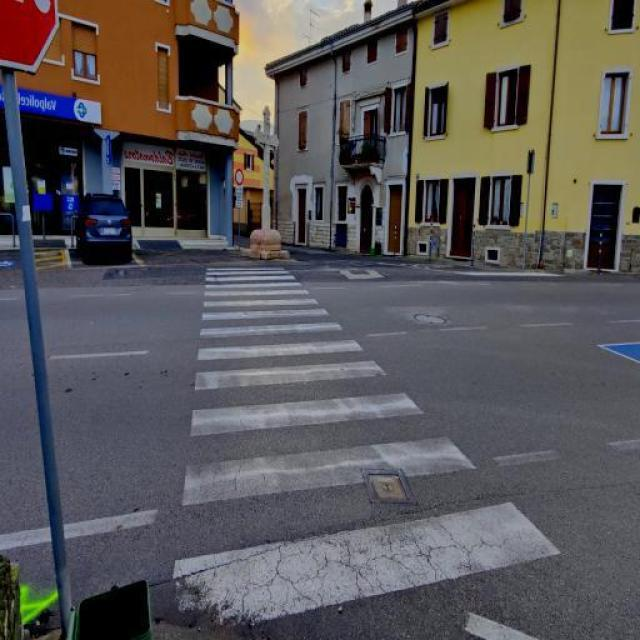crosswalk: (172, 266, 566, 628)
